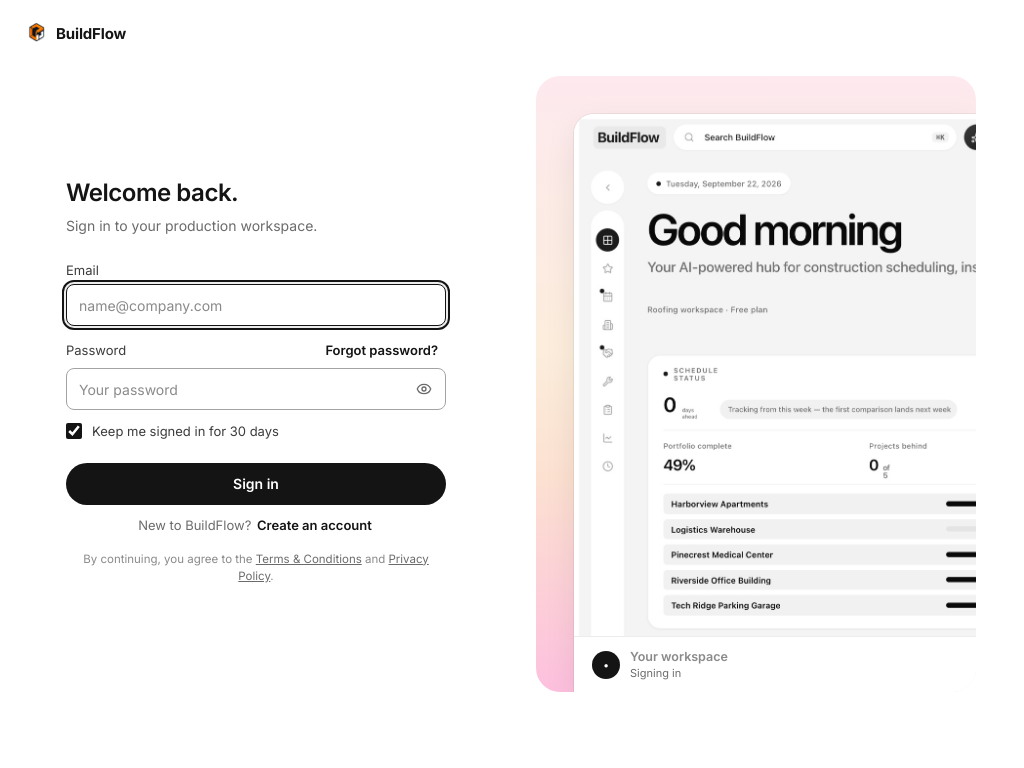
Test case: signing in › writes the address into the card as it is typed, and claims no more than that
Type "ops@reyespaving.com" into the field labelled "Email".
click(256, 305); type("ops@reyespaving.com")  # box [66,284,446,326]
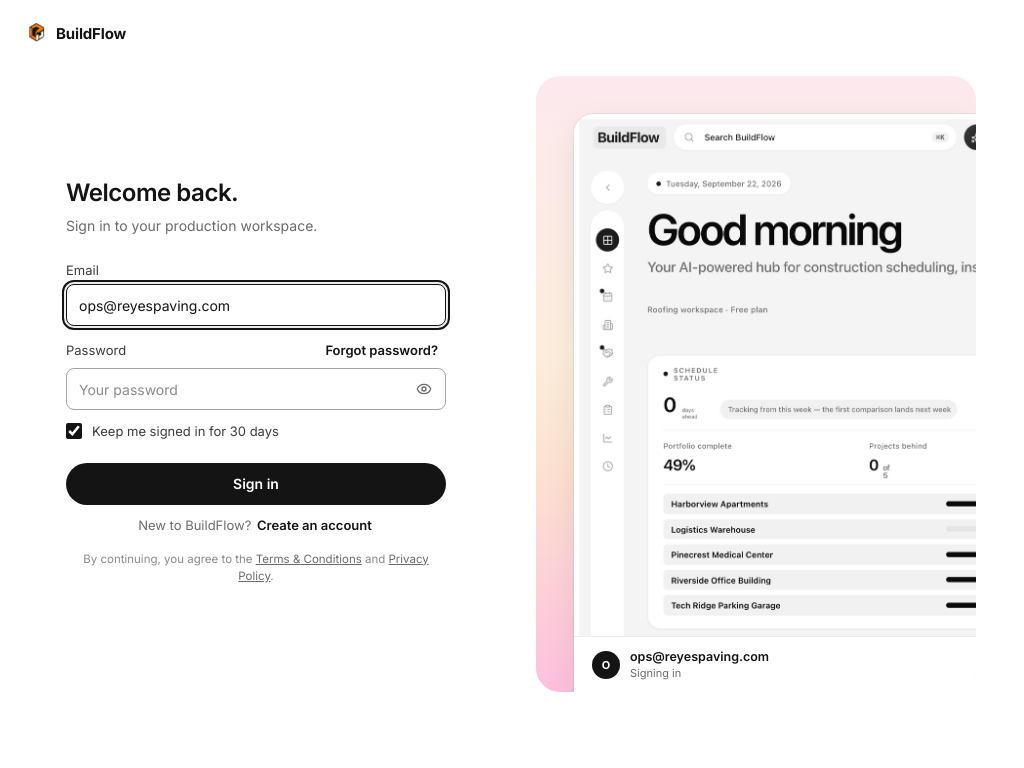
Expected: the text "Signing in" is shown, [630,666,681,680]
Now the text "ops@reyespaving.com" is shown, box [630,650,769,666]
Now the text with class "onb-mock-avatar" reads "O", box [602,658,610,672]
